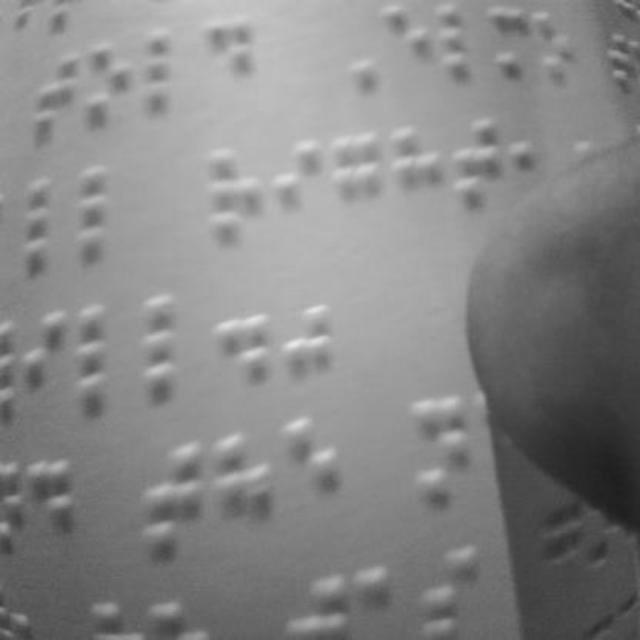braiile: (206, 429, 274, 556), (399, 390, 468, 512), (278, 413, 346, 531), (140, 436, 203, 560), (138, 292, 206, 404), (326, 129, 384, 245), (74, 304, 136, 412), (449, 115, 507, 228), (202, 144, 262, 252), (76, 163, 136, 267), (268, 134, 322, 248), (24, 453, 80, 562), (390, 121, 444, 233), (18, 305, 72, 415), (26, 36, 82, 136), (20, 173, 76, 271), (82, 30, 136, 128), (142, 24, 194, 122), (204, 9, 258, 101), (382, 0, 430, 96), (434, 0, 480, 90)
